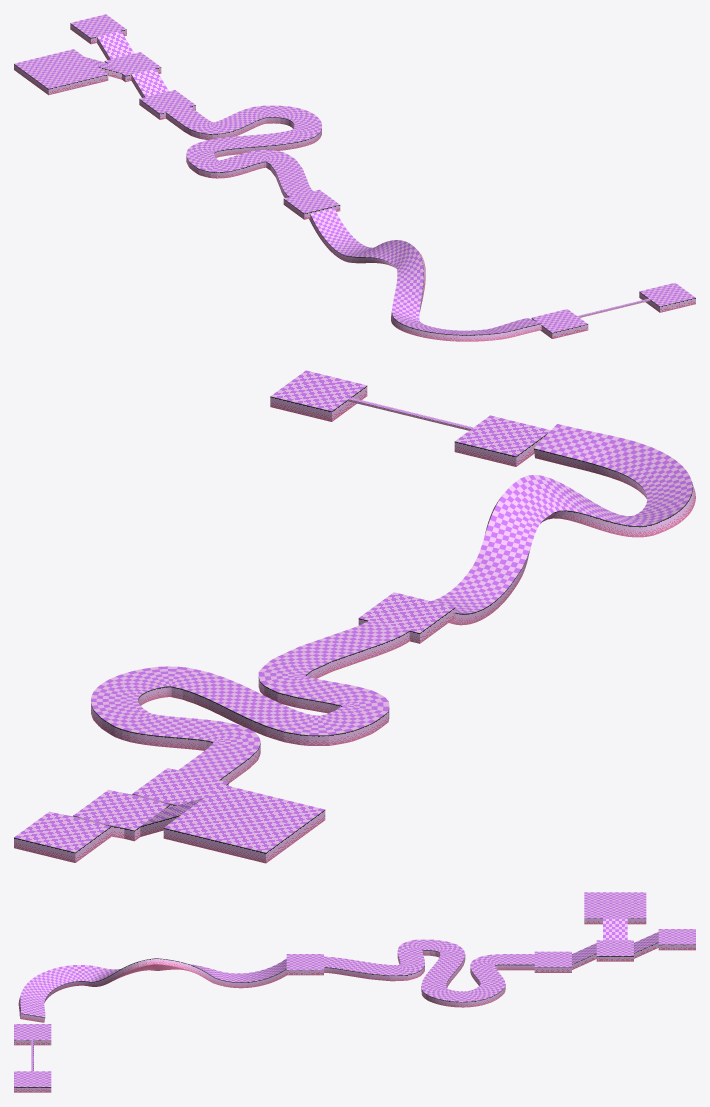
File: level_1.glb
The picture shows the model from 3 angles, top to bottom: view 1: azimuth 30°, elevation 25°; view 2: azimuth 150°, elevation 25°; view 3: azimuth 270°, elevation 25°; orthographic projection. The views are drawn at different scales.
Parts seen in each view (by area): view 1: Halfcube.005 -col, Halfcube.007 -col, Halfcube -col, Halfcube.010 -col, Halfcube.008 -col, Halfcube.006 -col, Halfcube.002 -col.001, Halfcube.004 -col, Halfcube.002 -col, Halfcube.003 -col, Halfcube.003 -col.001; view 2: Halfcube.005 -col, Halfcube.007 -col, Halfcube -col, Halfcube.002 -col.001, Halfcube.010 -col, Halfcube.008 -col, Halfcube.006 -col, Halfcube.002 -col, Halfcube.004 -col, Halfcube.001 -col; view 3: Halfcube.005 -col, Halfcube.007 -col, Halfcube -col, Halfcube.002 -col, Halfcube.010 -col, Halfcube.004 -col, Halfcube.006 -col, Halfcube.002 -col.001, Halfcube.008 -col, Halfcube.001 -col, Halfcube.003 -col, Halfcube.003 -col.001.
Boxes of the visible parts, x1,y1,x2,y2 form: Halfcube.005 -col: (166, 105, 321, 197); Halfcube.007 -col: (309, 208, 541, 341); Halfcube -col: (14, 49, 108, 95); Halfcube.010 -col: (639, 283, 695, 312); Halfcube.008 -col: (531, 309, 588, 338); Halfcube.006 -col: (283, 189, 340, 219); Halfcube.002 -col.001: (70, 14, 126, 44); Halfcube.004 -col: (139, 90, 195, 119); Halfcube.002 -col: (104, 52, 161, 82); Halfcube.003 -col: (131, 69, 168, 97); Halfcube.003 -col.001: (97, 31, 134, 59); Halfcube.005 -col: (91, 620, 409, 783); Halfcube.007 -col: (431, 424, 695, 625); Halfcube -col: (163, 784, 325, 863); Halfcube.002 -col.001: (14, 811, 110, 862); Halfcube.010 -col: (270, 370, 367, 421); Halfcube.008 -col: (454, 415, 550, 466); Halfcube.006 -col: (358, 592, 455, 643); Halfcube.002 -col: (73, 789, 169, 841); Halfcube.004 -col: (132, 768, 228, 804); Halfcube.001 -col: (140, 797, 204, 836); Halfcube.005 -col: (323, 939, 534, 1007); Halfcube.007 -col: (18, 958, 286, 1022); Halfcube -col: (584, 892, 646, 924); Halfcube.002 -col: (596, 940, 633, 961); Halfcube.010 -col: (14, 1071, 51, 1092); Halfcube.004 -col: (534, 951, 571, 972); Halfcube.006 -col: (286, 954, 323, 975); Halfcube.002 -col.001: (658, 929, 695, 950); Halfcube.008 -col: (14, 1024, 51, 1045); Halfcube.001 -col: (603, 918, 627, 940); Halfcube.003 -col: (572, 943, 596, 969); Halfcube.003 -col.001: (634, 932, 658, 958).
Size of the model in its own units: 55 by 10 by 110.
1 material, 1 textured.
